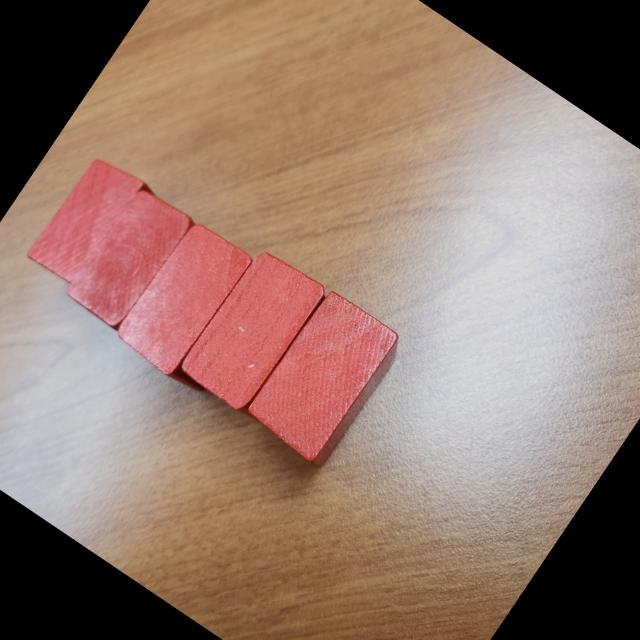red: (238, 286, 408, 472), (175, 244, 329, 417), (108, 216, 256, 384), (62, 182, 196, 334), (23, 148, 157, 298)
